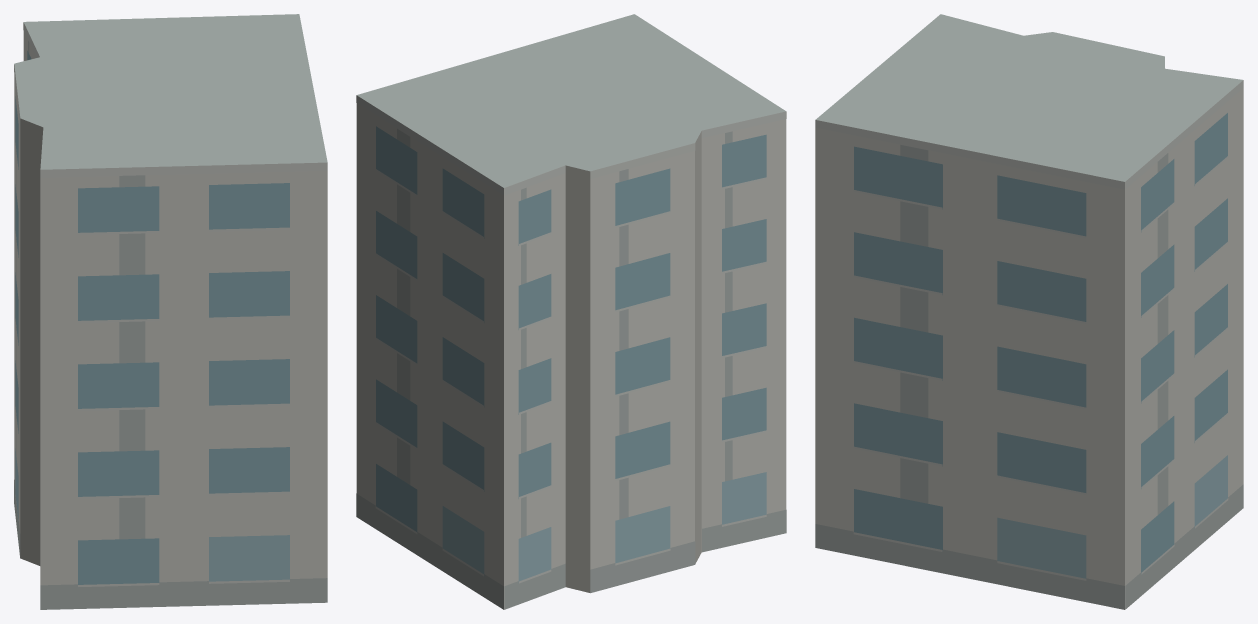
Rendered from survey-upis-32728725.glb.
The picture shows the model from 3 angles, left to right: view 1: azimuth 30°, elevation 25°; view 2: azimuth 150°, elevation 25°; view 3: azimuth 270°, elevation 25°; orthographic projection. The views are drawn at different scales.
Parts seen in each view (by area): view 1: survey-upis-32728725.tmp; view 2: survey-upis-32728725.tmp; view 3: survey-upis-32728725.tmp.
Boxes of the visible parts, <box> form: survey-upis-32728725.tmp: <box>14,14,327,609</box>; survey-upis-32728725.tmp: <box>356,14,786,609</box>; survey-upis-32728725.tmp: <box>815,14,1243,609</box>.
Bounding box in the file's own units: 11.12 × 13.2 × 11.98.
